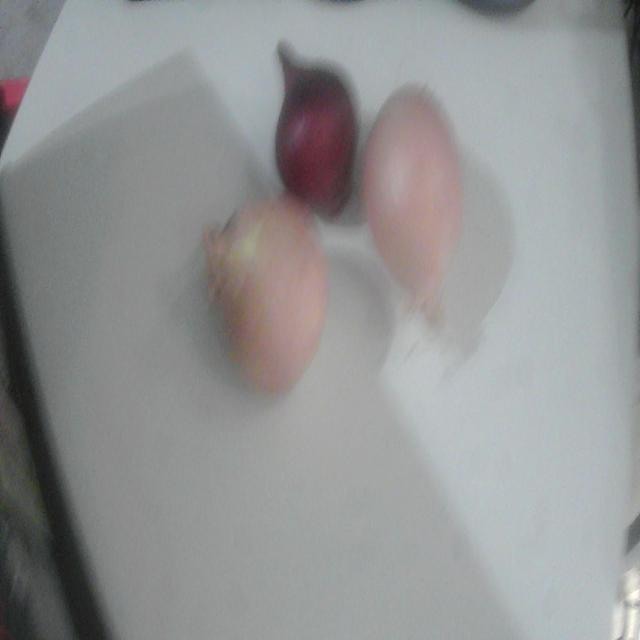Onion: (361, 87, 463, 328), (204, 202, 327, 394), (274, 44, 358, 218)
